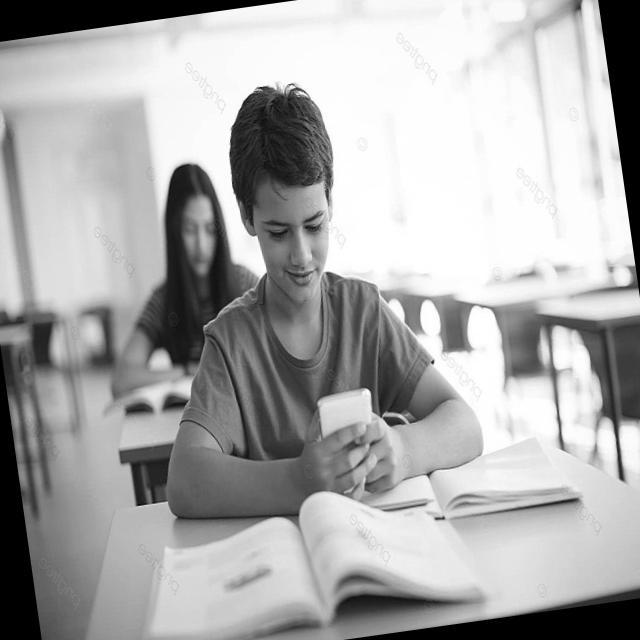phone: (316, 386, 386, 498)
